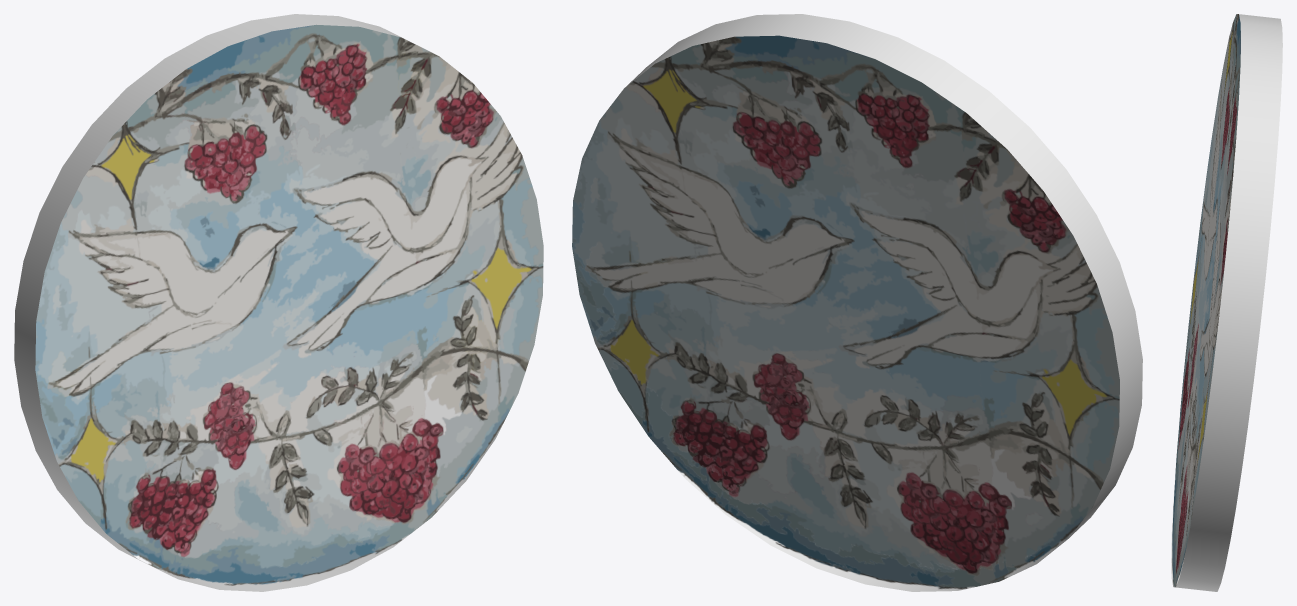
Rendered from modelOne.glb.
3 views of the same model, side by side, from view 1: azimuth 30°, elevation 25°; view 2: azimuth 150°, elevation 25°; view 3: azimuth 270°, elevation 25° (orthographic). The views are drawn at different scales.
Parts seen in each view (by area): view 1: logo1; view 2: logo1; view 3: logo1.
Part boxes in pixels (x1,y1,x2,y2): logo1: (14,14,543,591); logo1: (572,14,1142,591); logo1: (1171,14,1282,591).
Bounding box in the file's own units: 2.07 × 2.07 × 0.3994.
3 materials, 2 textured.
